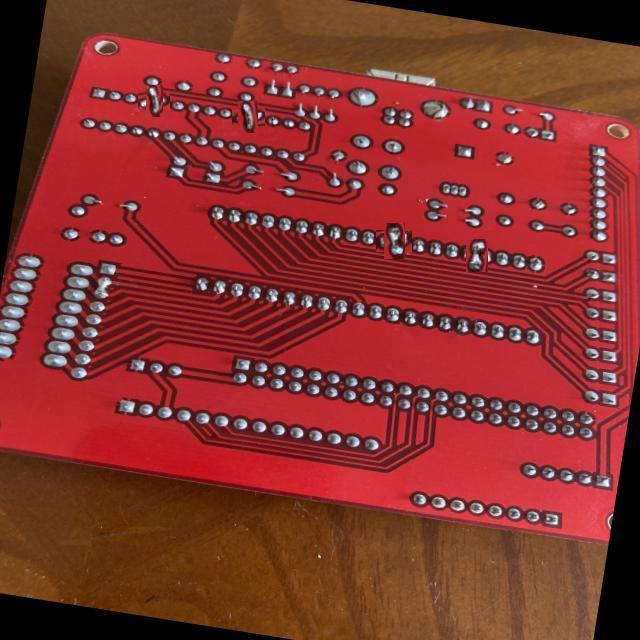damged: (380, 227, 408, 256), (464, 241, 492, 269), (235, 104, 262, 130), (142, 88, 166, 114), (92, 274, 115, 300)
